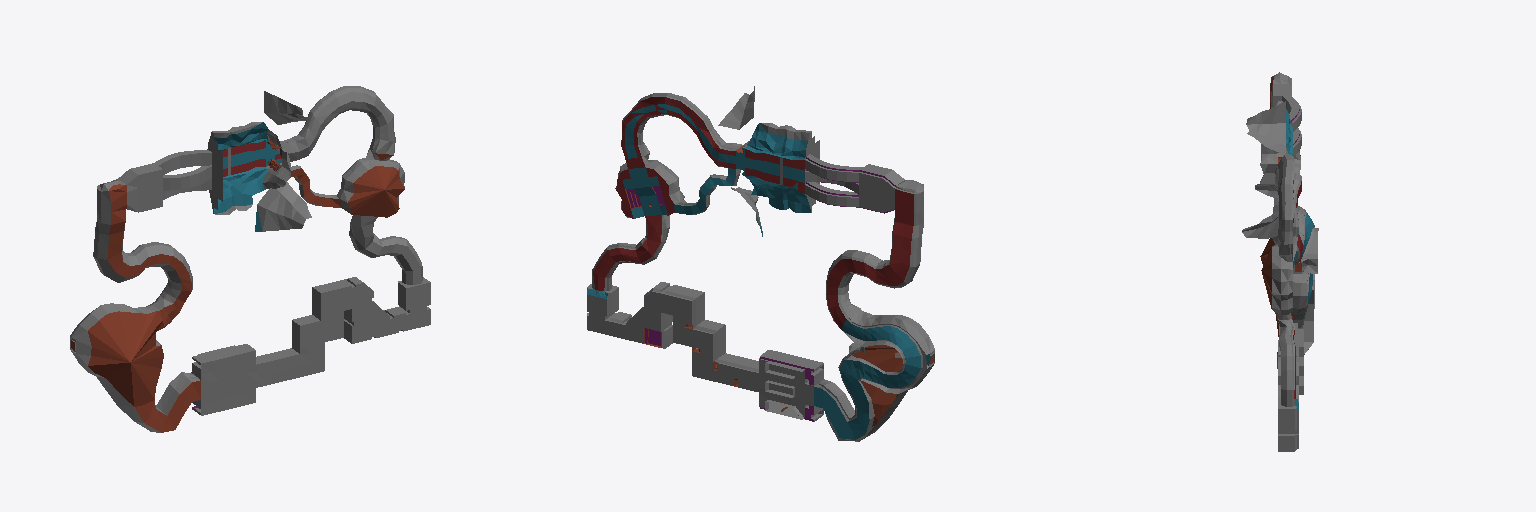
File: TRACK.GDB.obj
3 renders of one model, left to right at view 1: azimuth 30°, elevation 25°; view 2: azimuth 150°, elevation 25°; view 3: azimuth 270°, elevation 25°, orthographic.
Bounding box in the file's own units: 1773 × 1564 × 341.